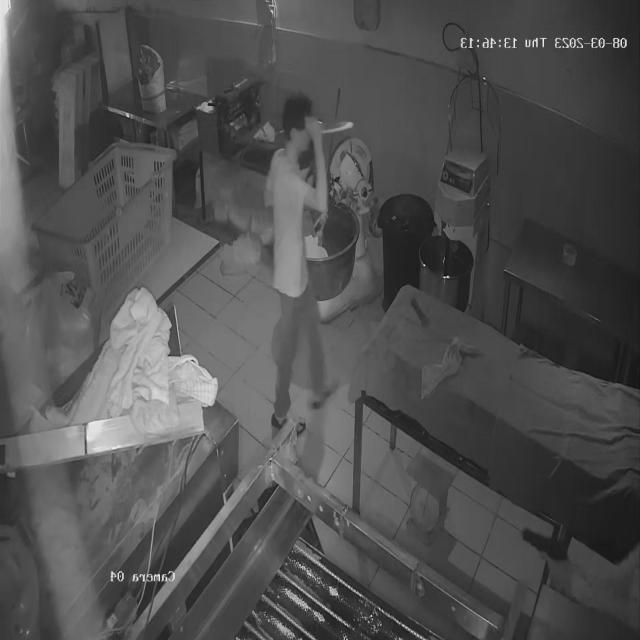Knife: (301, 113, 357, 140)
